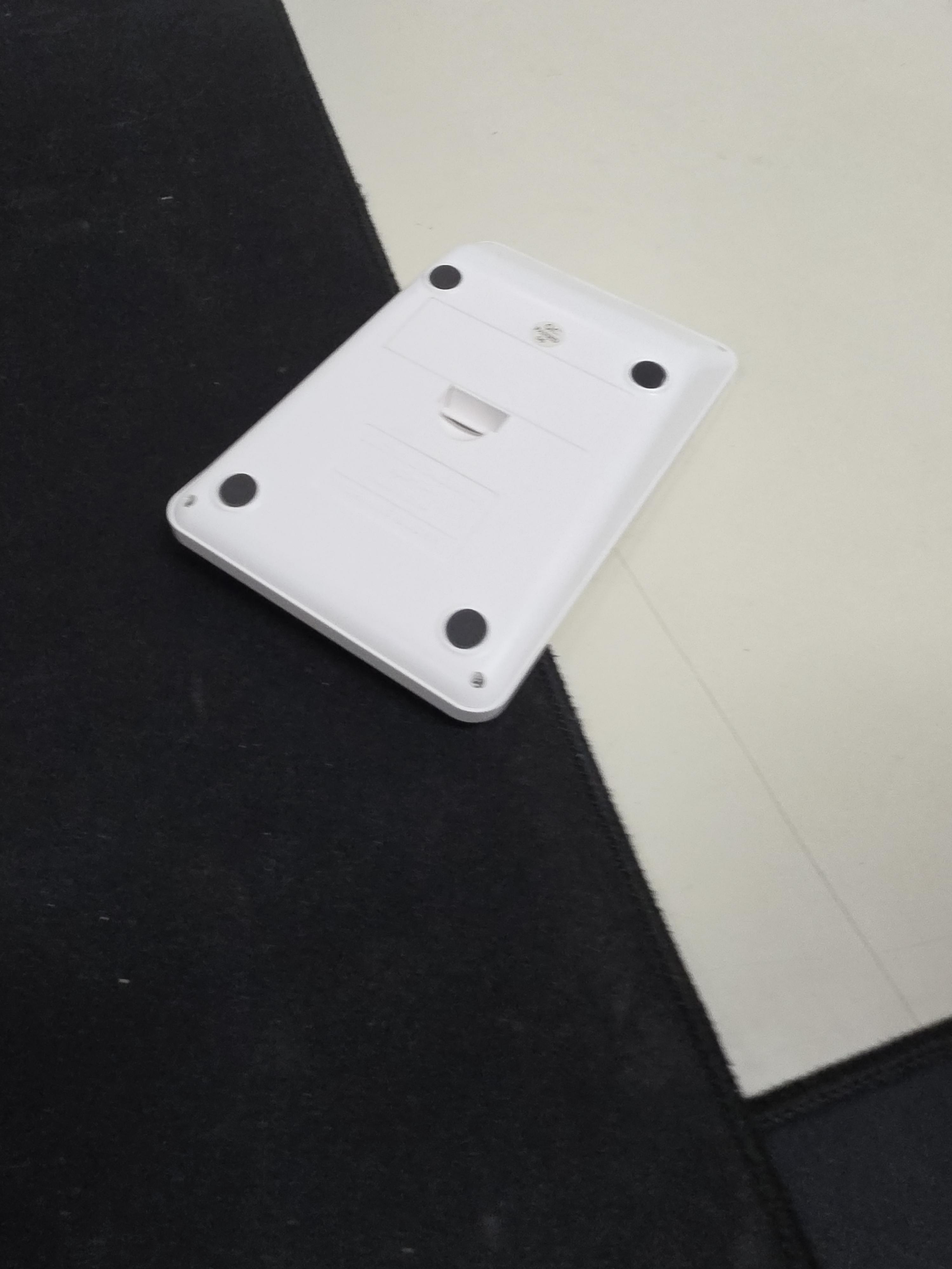calculator: (165, 241, 739, 724)
